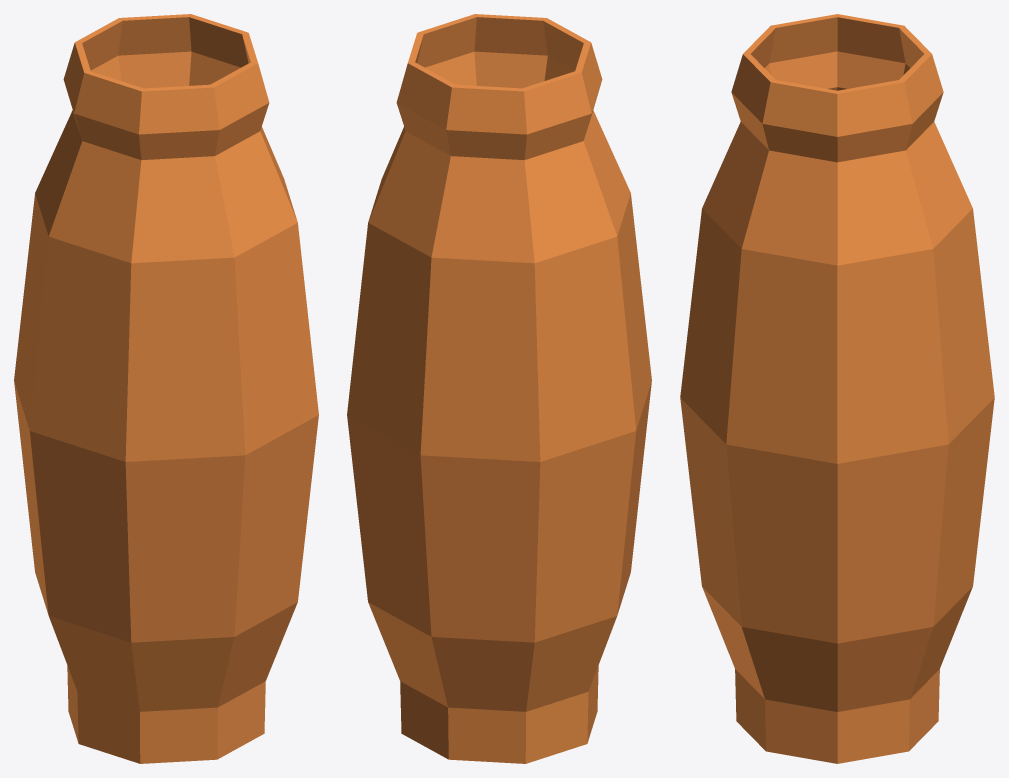
Rendered from Pot_empty_2.fbx.
The picture shows the model from 3 angles, left to right: view 1: azimuth 30°, elevation 25°; view 2: azimuth 150°, elevation 25°; view 3: azimuth 270°, elevation 25°; orthographic projection.
Parts seen in each view (by area): view 1: Pot_empty_2; view 2: Pot_empty_2; view 3: Pot_empty_2.
Boxes of the visible parts, x1,y1,x2,y2 form: Pot_empty_2: (14,14,318,763); Pot_empty_2: (347,14,651,763); Pot_empty_2: (680,14,994,763).
Size of the model in its own units: 14.63 by 14.63 by 34.7.
